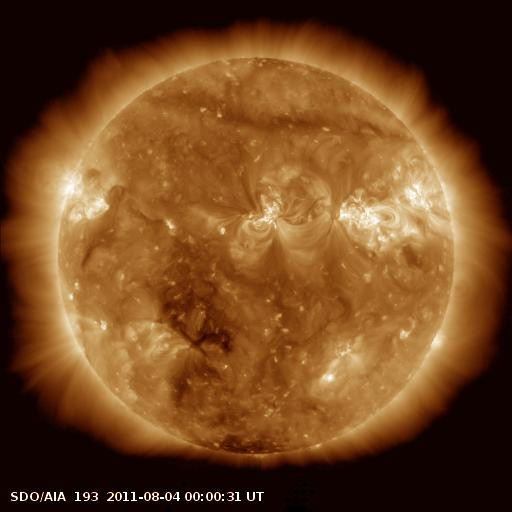coronal_hole: (199, 434, 308, 460)
